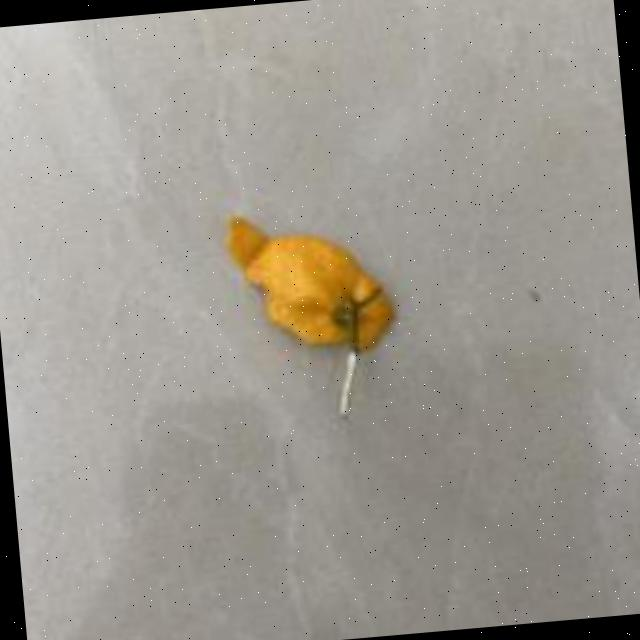orange-peel: (220, 199, 398, 364)
